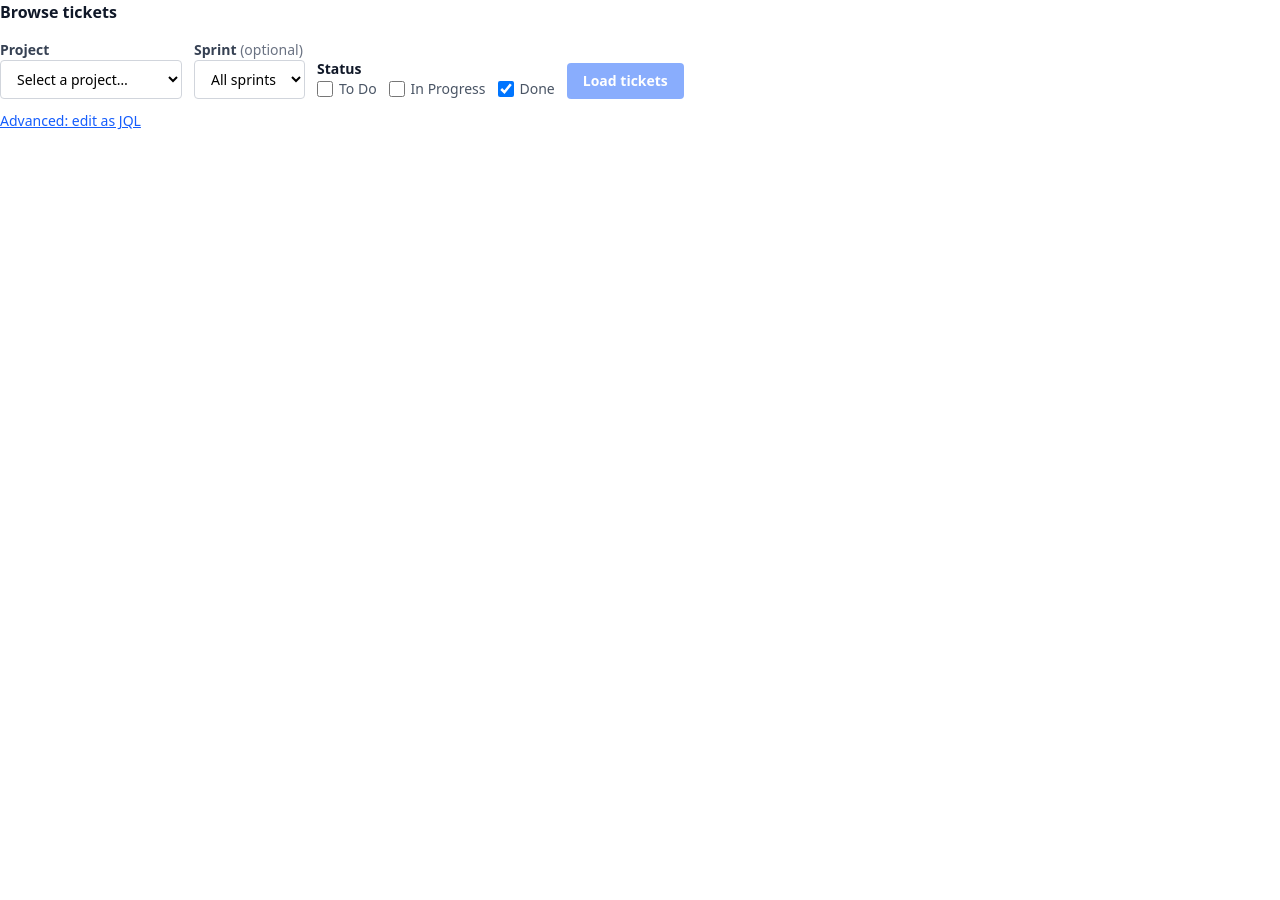
Test case: TicketsRoute › theAddToReleaseTriggerAppearsOnlyWithASelectionAndOpensTheDialogWithThoseKeys
This screenshot has width=1280, height=900.
Select "CNV — Convergence" in the dropdown labelled "Project" at x=91, y=80, box [0,60,182,99]
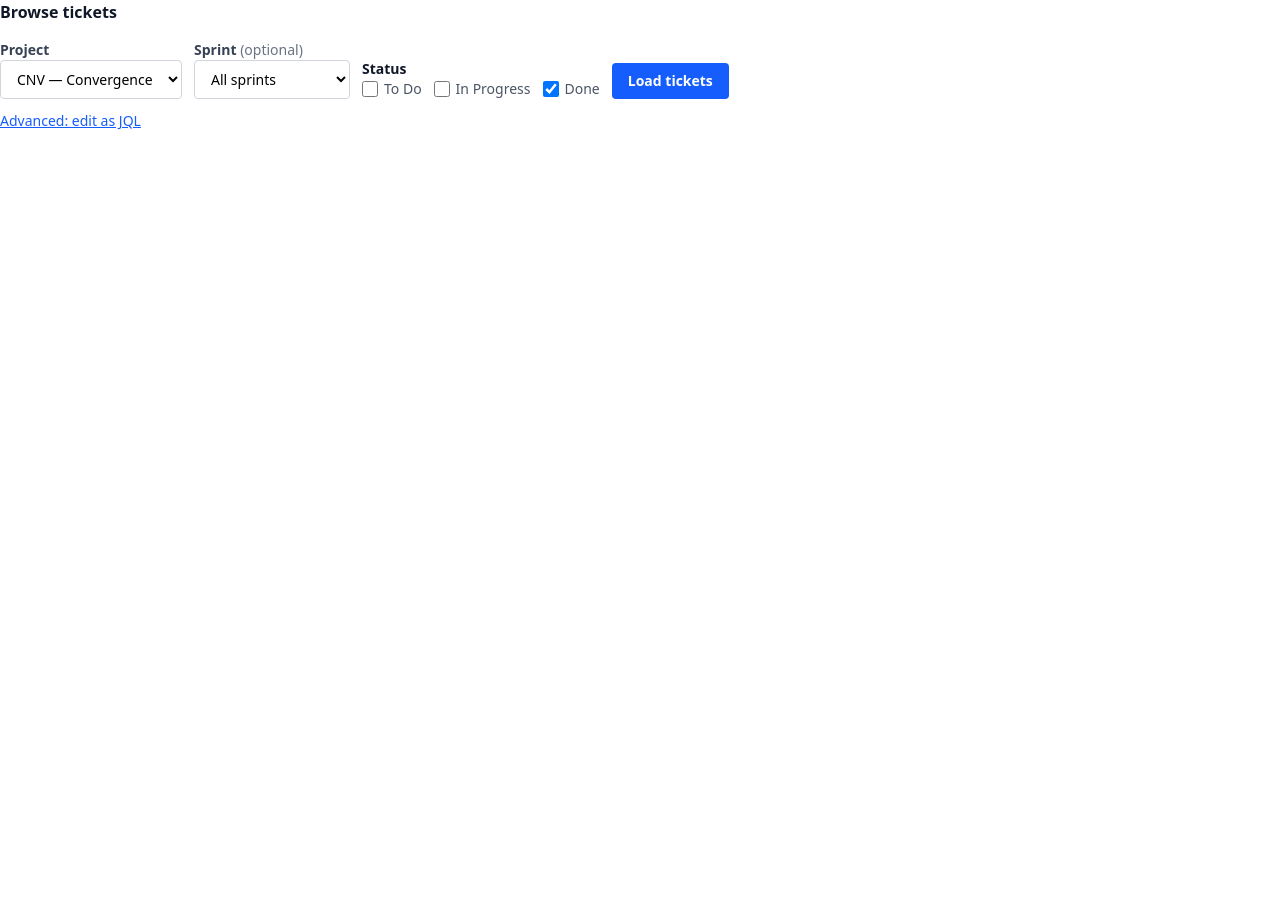
Click the button "Load tickets" at x=670, y=81, box [612,63,729,99]
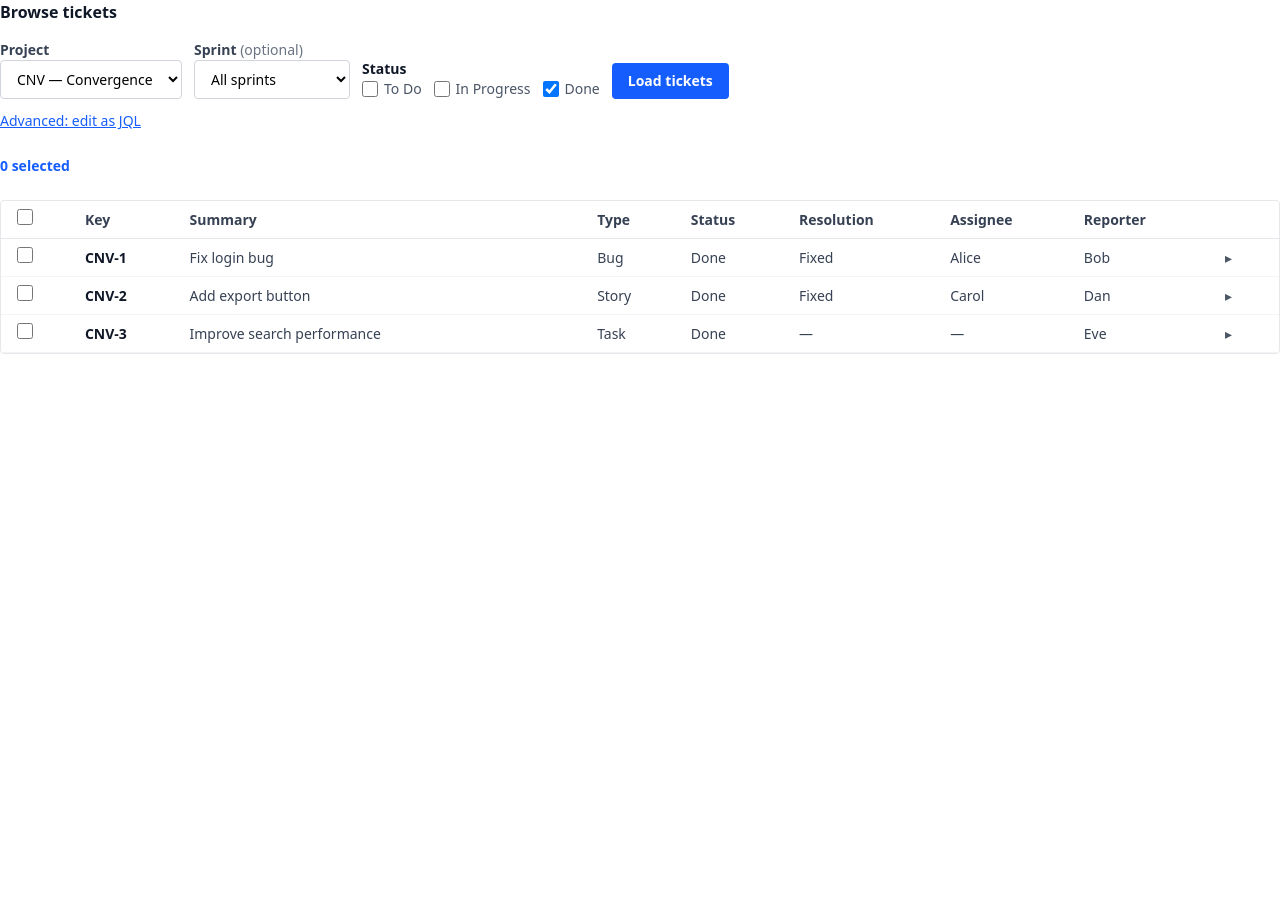
Click the checkbox named "Select ticket CNV-1" at x=25, y=255, box [17,247,33,263]
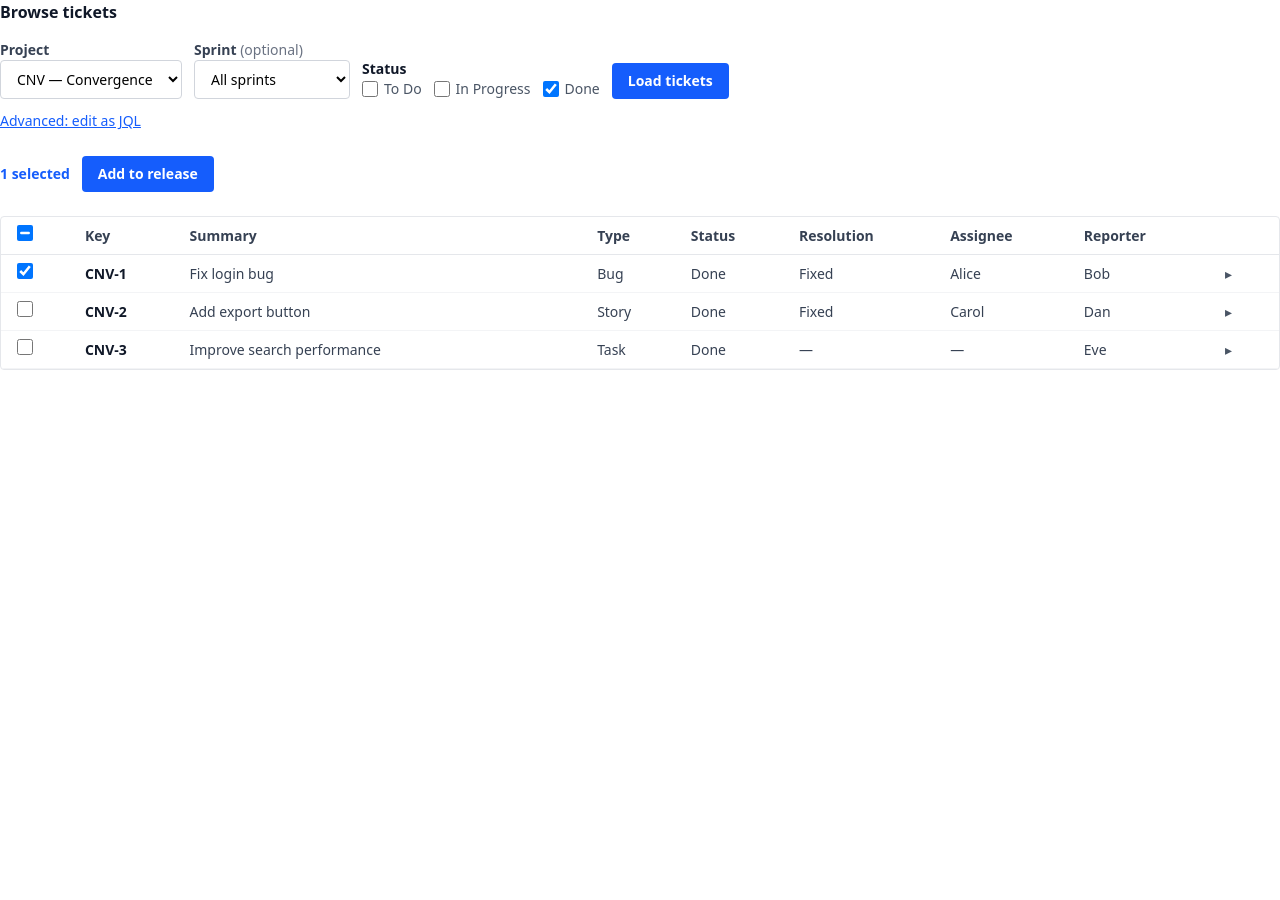
Click the checkbox named "Select ticket CNV-2" at x=25, y=309, box [17,301,33,317]
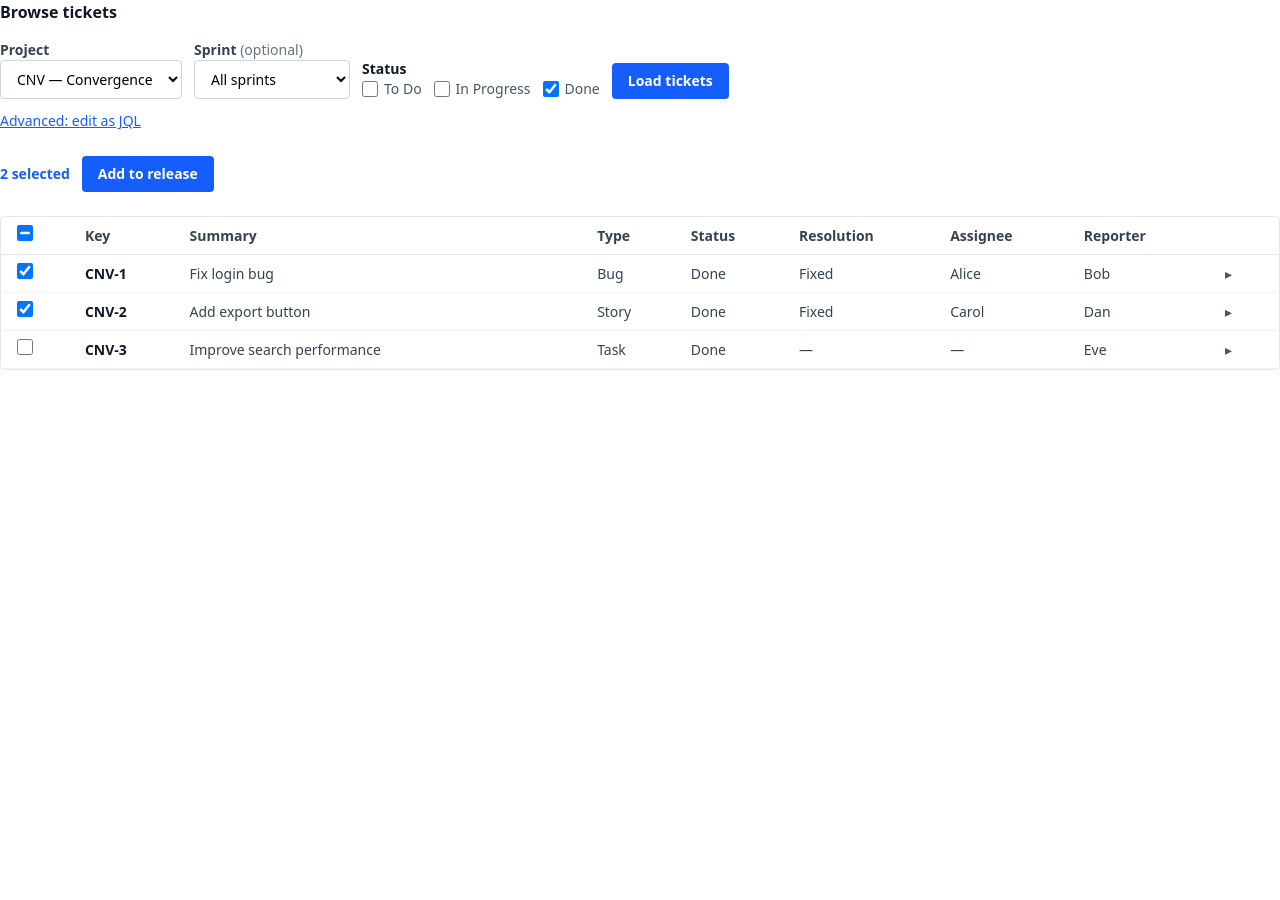
Check: the button "Add to release" is shown
Click the button "Add to release" at x=148, y=174, box [82,156,214,192]
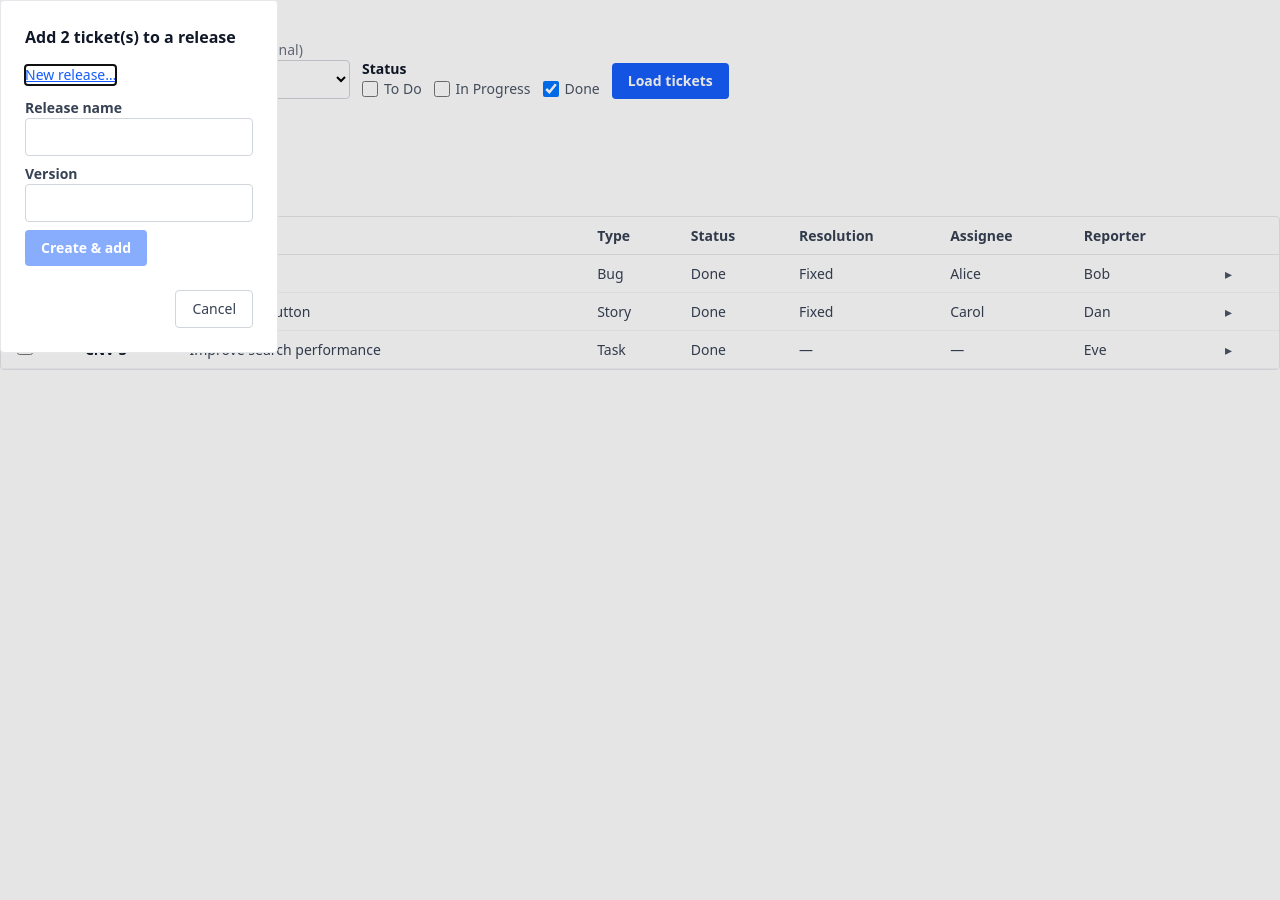
Check: the heading "Add 2 ticket(s) to a release" is shown, box [25,25,253,49]
